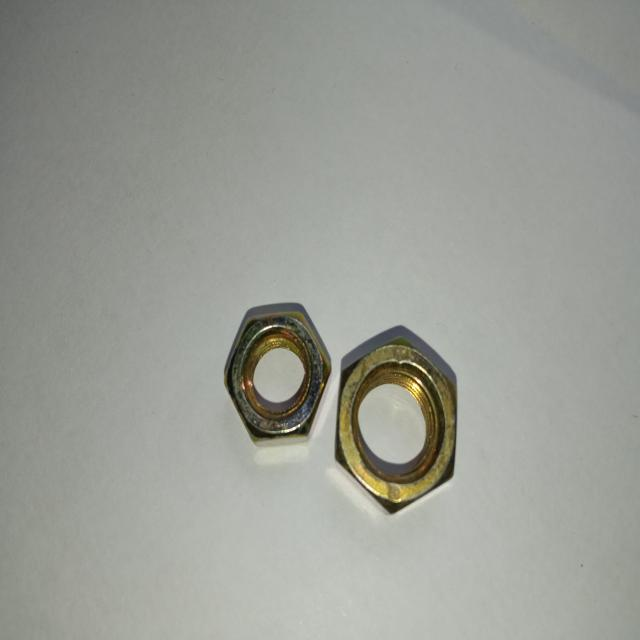m10: (342, 338, 458, 508)
m8: (223, 311, 325, 445)
